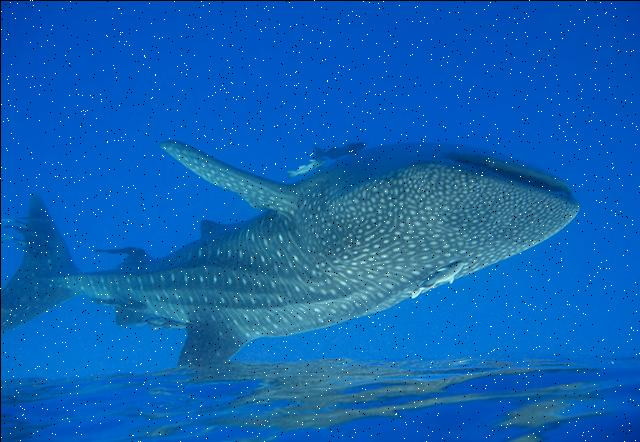Mulut: (426, 125, 592, 215)
Sirip Dada: (146, 126, 314, 230)
Sirip Ekor: (0, 174, 77, 344)
Sirip Perut: (184, 206, 238, 252)
